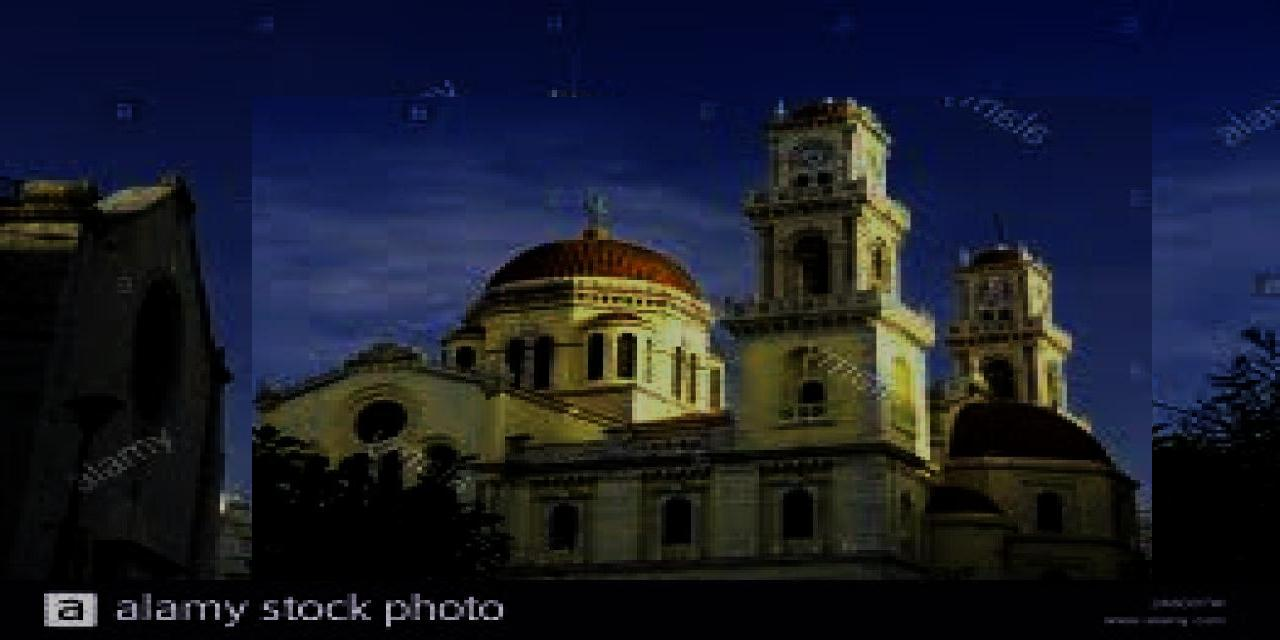Agios Minas: (253, 98, 1153, 582)
